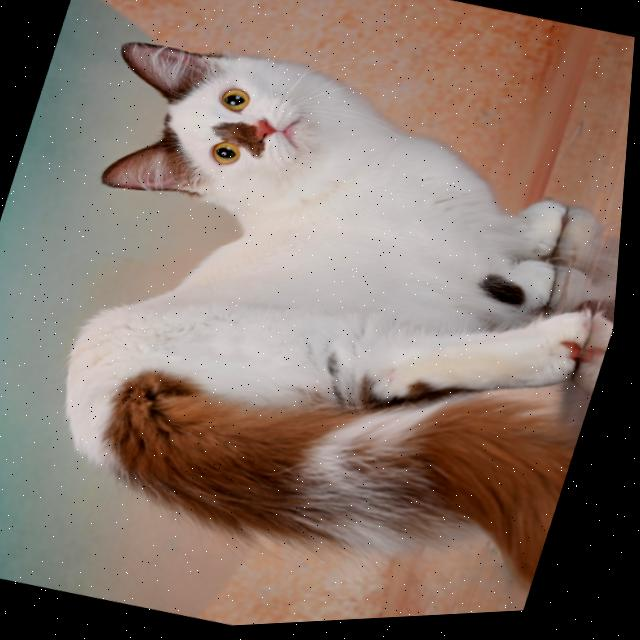Munchkin: (0, 3, 638, 632)
